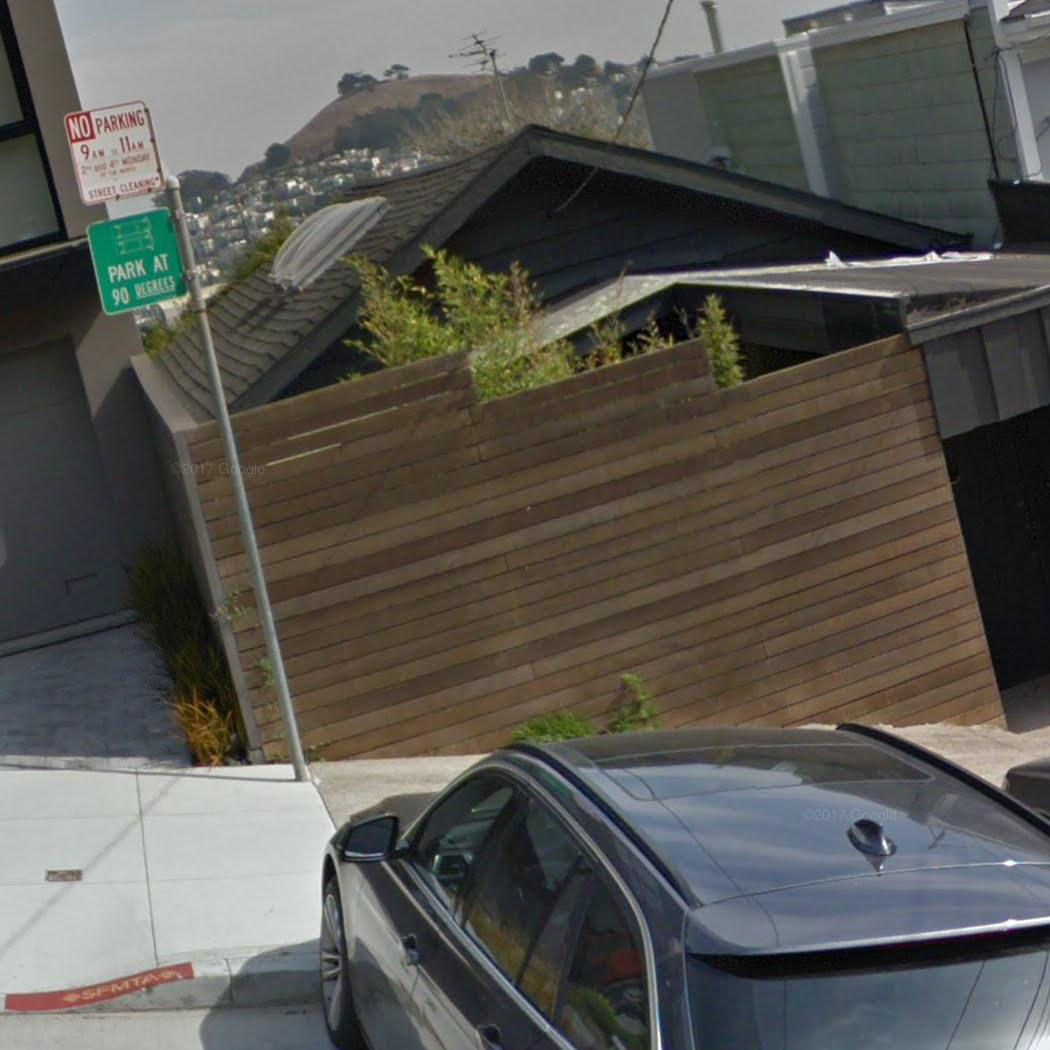No Parking: (61, 97, 169, 208)
